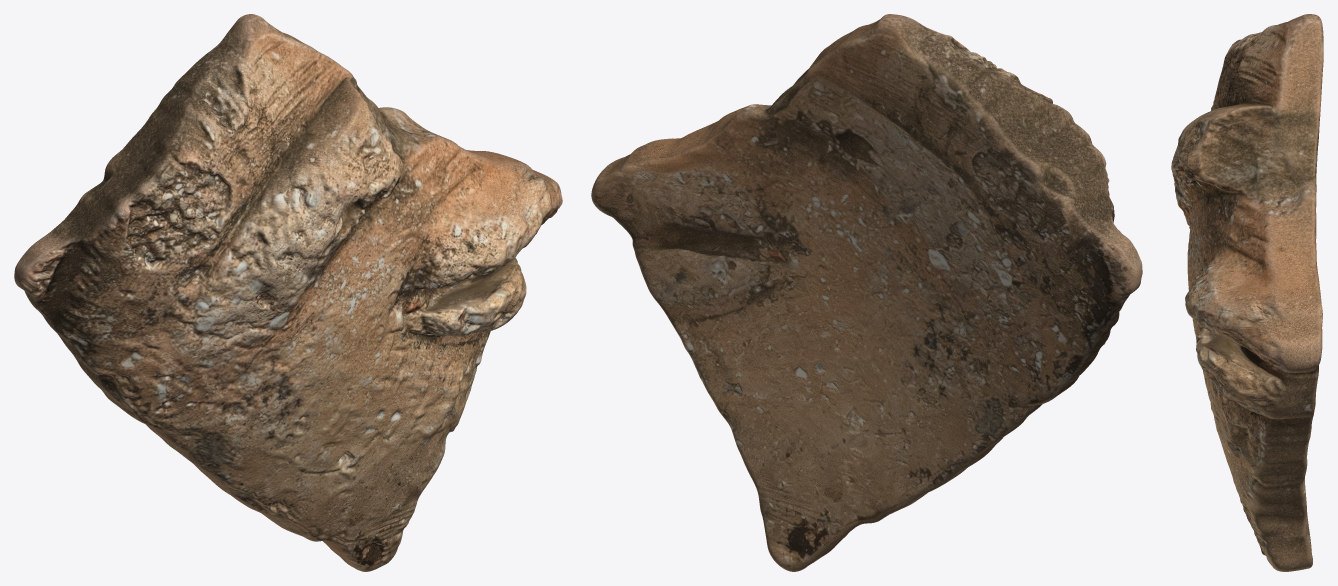
Rendered from artifact.glb.
The picture shows the model from 3 angles, left to right: view 1: azimuth 30°, elevation 25°; view 2: azimuth 150°, elevation 25°; view 3: azimuth 270°, elevation 25°; orthographic projection. The views are drawn at different scales.
Size of the model in its own units: 1.87 by 1.91 by 0.5181.
Materials: 1 (1 with a texture image).
